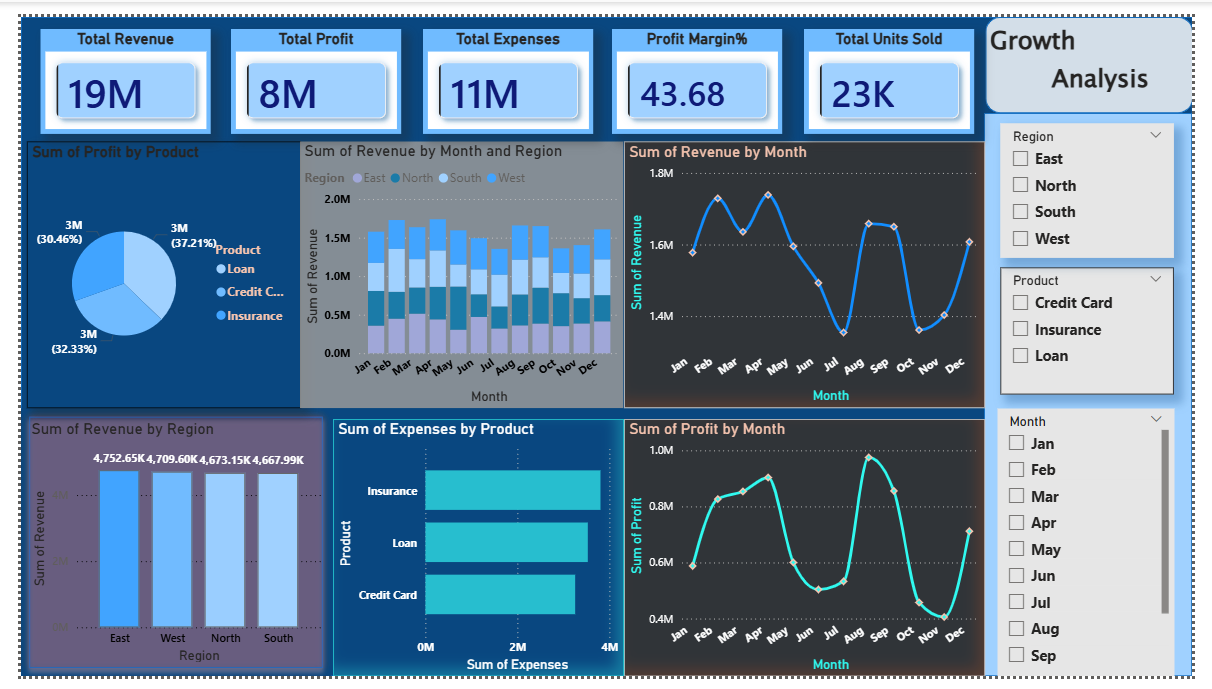

The dashboard page shown, as its layout file describes it:
{"tool":"powerbi","page":{"name":"Page 1","canvas":[1280,720],"ordinal":0},"visuals":[{"type":"shape","box":[658.5,427.9,383.3,281.5],"z":0},{"type":"shape","box":[377,439,454.9,281.5],"z":1000},{"type":"shape","box":[0,0,1280.4,720.5],"z":2000},{"type":"shape","box":[1053.3,0,226.7,105],"z":3000},{"type":"shape","box":[1053,105,227.5,615.6],"z":4000},{"type":"textbox","box":[1053.3,0,213.3,140],"z":5000},{"type":"shape","box":[0,427.9,338.8,292.7],"z":6000},{"type":"columnChart","fields":{"Y":["Sum(Finance_Data.Revenue)"],"Category":["Finance_Data.Region"]},"box":[6.4,439,326.1,270.4],"z":7000},{"type":"lineChart","fields":{"Y":["Sum(Finance_Data.Profit)"],"Category":["Finance_Data.Month"]},"box":[658.5,439,394.5,281.5],"z":8000},{"type":"barChart","fields":{"Y":["Sum(Finance_Data.Expenses)"],"Category":["Finance_Data.Product"]},"box":[340.4,439,318.1,281.5],"z":9000},{"type":"slicer","fields":{"Values":["Finance_Data.Product"]},"box":[1070.5,273.6,189.3,138.4],"z":10000},{"type":"slicer","fields":{"Values":["Finance_Data.Region"]},"box":[1070.5,116.1,189.3,146.3],"z":11000},{"type":"slicer","fields":{"Values":["Finance_Data.Month"]},"box":[1067.3,427.9,192.5,292.7],"z":12000},{"type":"pieChart","fields":{"Category":["Finance_Data.Product"],"Y":["Sum(Finance_Data.Profit)"]},"box":[6.4,136.8,299,291.1],"z":13000},{"type":"lineChart","fields":{"Y":["Sum(Finance_Data.Revenue)"],"Category":["Finance_Data.Month"]},"box":[658.5,136.8,394.5,291.1],"z":14000},{"type":"columnChart","fields":{"Category":["Finance_Data.Month"],"Series":["Finance_Data.Region"],"Y":["Sum(Finance_Data.Revenue)"]},"box":[305.4,136.8,353.1,291.1],"z":15000},{"type":"cardVisual","title":"Total Revenue","fields":{"Data":["Finance_Data.Total Revenue"]},"box":[20.7,12.7,186.1,114.5],"z":15001},{"type":"cardVisual","title":"Total Profit","fields":{"Data":["Finance_Data.Total profit"]},"box":[229,12.7,186.1,114.5],"z":15002},{"type":"cardVisual","title":"Total Expenses","fields":{"Data":["Finance_Data.Total Expenses"]},"box":[439,12.7,186.1,114.5],"z":15003},{"type":"cardVisual","title":"Profit Margin% ","fields":{"Data":["Finance_Data.Profit Margin%"]},"box":[645.8,12.7,186.1,114.5],"z":15004},{"type":"cardVisual","title":"Total Units Sold","fields":{"Data":["Finance_Data.Total units sold"]},"box":[855.7,12.7,186.1,114.5],"z":15005}]}

Visuals, with their boxes in screenshot pixels (x1, y1, x2, y2), scaled from the page's 1280x720 canvas onto the 1212x689 screenshot:
shape: [left=624, top=409, right=986, bottom=679]
shape: [left=357, top=420, right=788, bottom=688]
shape: [left=0, top=0, right=1211, bottom=688]
shape: [left=997, top=0, right=1211, bottom=100]
shape: [left=997, top=100, right=1211, bottom=688]
textbox: [left=997, top=0, right=1199, bottom=134]
shape: [left=0, top=409, right=321, bottom=688]
columnChart - Sum(Finance_Data.Revenue) x Finance_Data.Region: [left=6, top=420, right=315, bottom=679]
lineChart - Sum(Finance_Data.Profit) x Finance_Data.Month: [left=624, top=420, right=997, bottom=688]
barChart - Sum(Finance_Data.Expenses) x Finance_Data.Product: [left=322, top=420, right=624, bottom=688]
slicer - Finance_Data.Product: [left=1014, top=262, right=1193, bottom=394]
slicer - Finance_Data.Region: [left=1014, top=111, right=1193, bottom=251]
slicer - Finance_Data.Month: [left=1011, top=409, right=1193, bottom=688]
pieChart - Finance_Data.Product x Sum(Finance_Data.Profit): [left=6, top=131, right=289, bottom=409]
lineChart - Sum(Finance_Data.Revenue) x Finance_Data.Month: [left=624, top=131, right=997, bottom=409]
columnChart - Finance_Data.Month x Finance_Data.Region: [left=289, top=131, right=624, bottom=409]
"Total Revenue" cardVisual: [left=20, top=12, right=196, bottom=122]
"Total Profit" cardVisual: [left=217, top=12, right=393, bottom=122]
"Total Expenses" cardVisual: [left=416, top=12, right=592, bottom=122]
"Profit Margin% " cardVisual: [left=611, top=12, right=788, bottom=122]
"Total Units Sold" cardVisual: [left=810, top=12, right=986, bottom=122]
